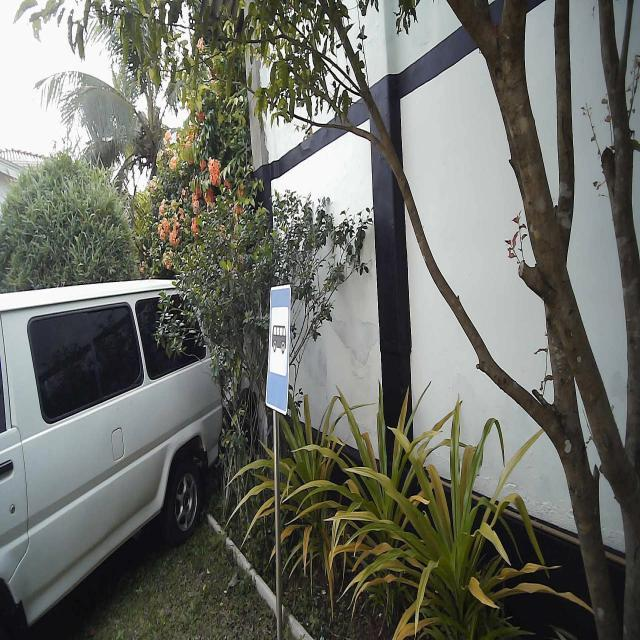bus_stop: (264, 284, 293, 415)
